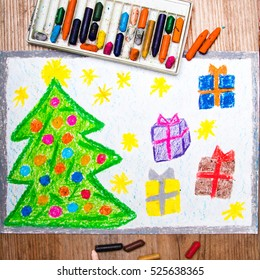tree: (13, 77, 137, 229)
